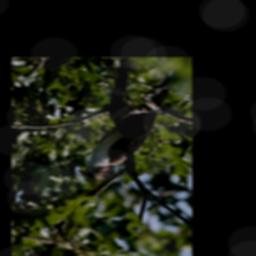Cuckoo: (76, 71, 180, 180)
